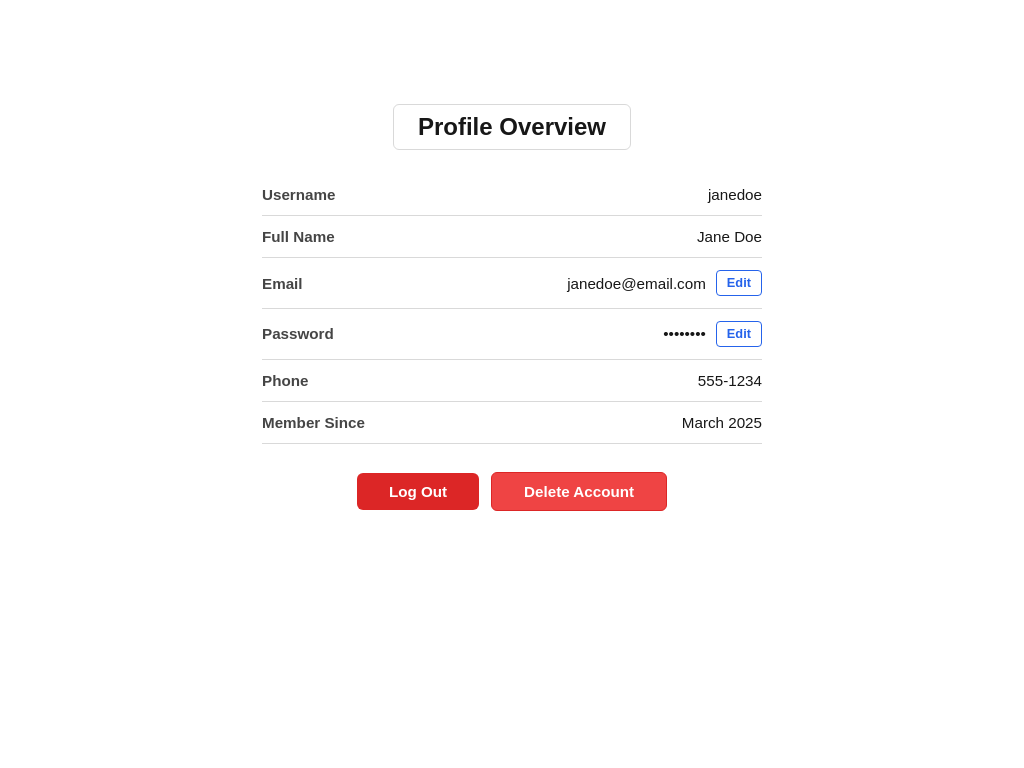
Scenario: ProfilePage › shows delete modal when Delete Account button is clicked
The image size is (1024, 768).
Click the button "Delete Account". click: [579, 491]
box: [491,472,667,511]
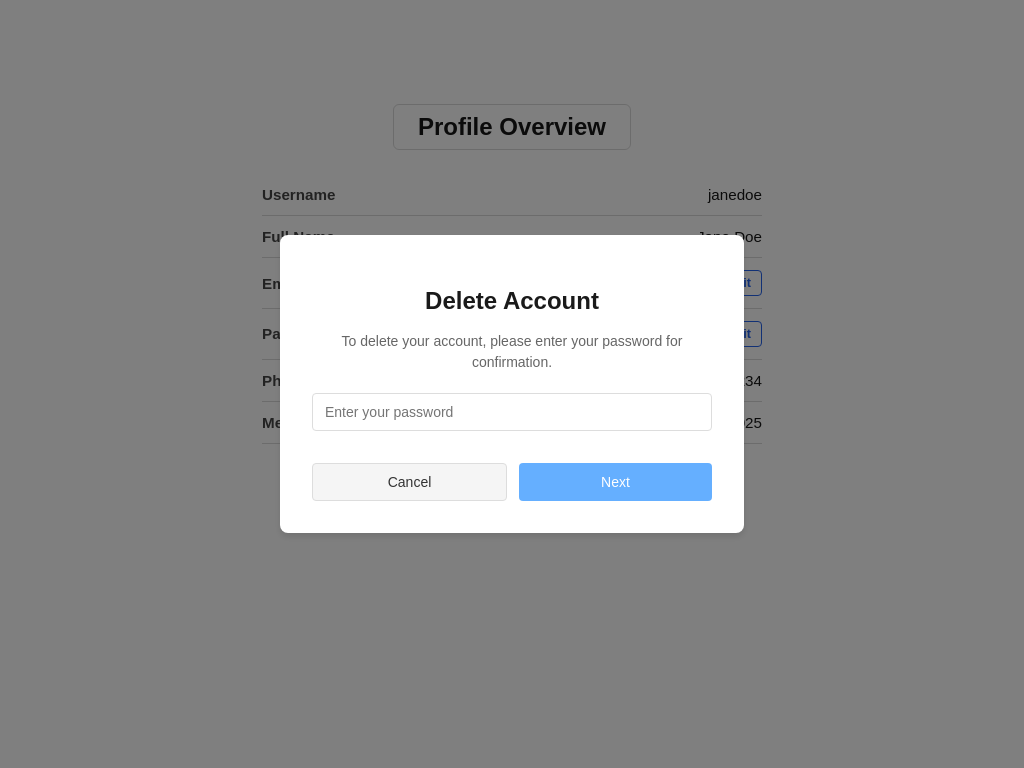
Expected: the element that starts with "Delete Account" is shown
